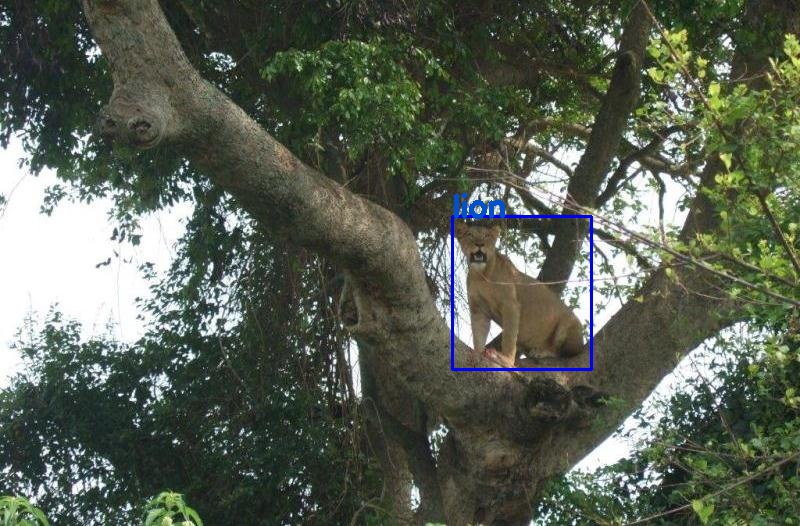lion: (452, 216, 591, 369)
